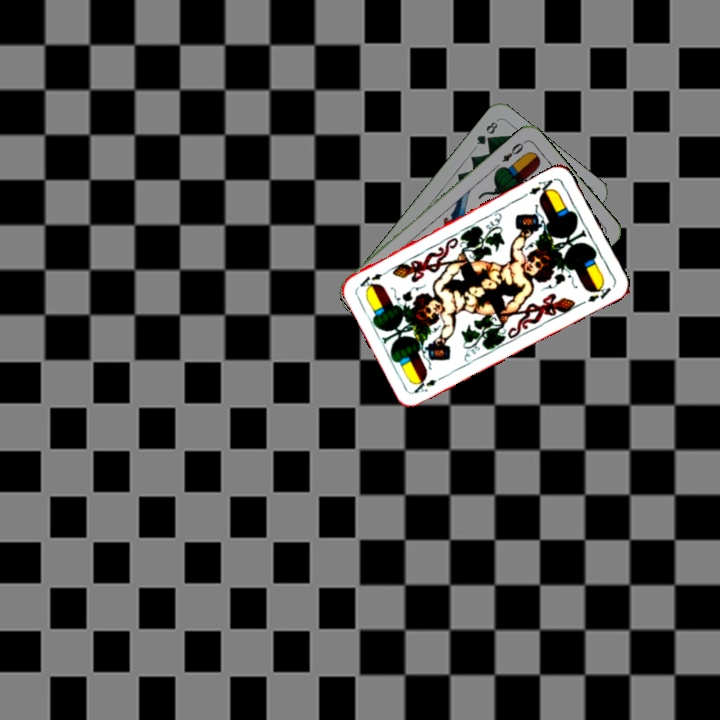EA: (409, 371, 448, 396), (525, 174, 558, 199)
EO: (498, 137, 528, 165)
G8: (472, 117, 501, 147)
